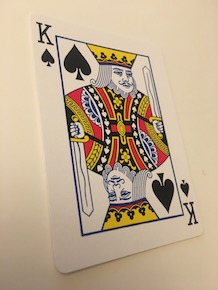KingOfSpades: (21, 7, 206, 276)
